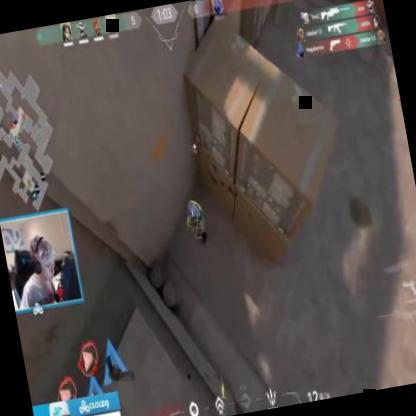enemy: (182, 196, 209, 246)
enemy_head: (190, 204, 199, 218)
